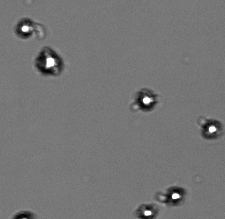Living Cell: (34, 47, 64, 75), (134, 88, 158, 112), (200, 117, 222, 139), (14, 17, 37, 38), (165, 184, 185, 204), (137, 202, 159, 217)
